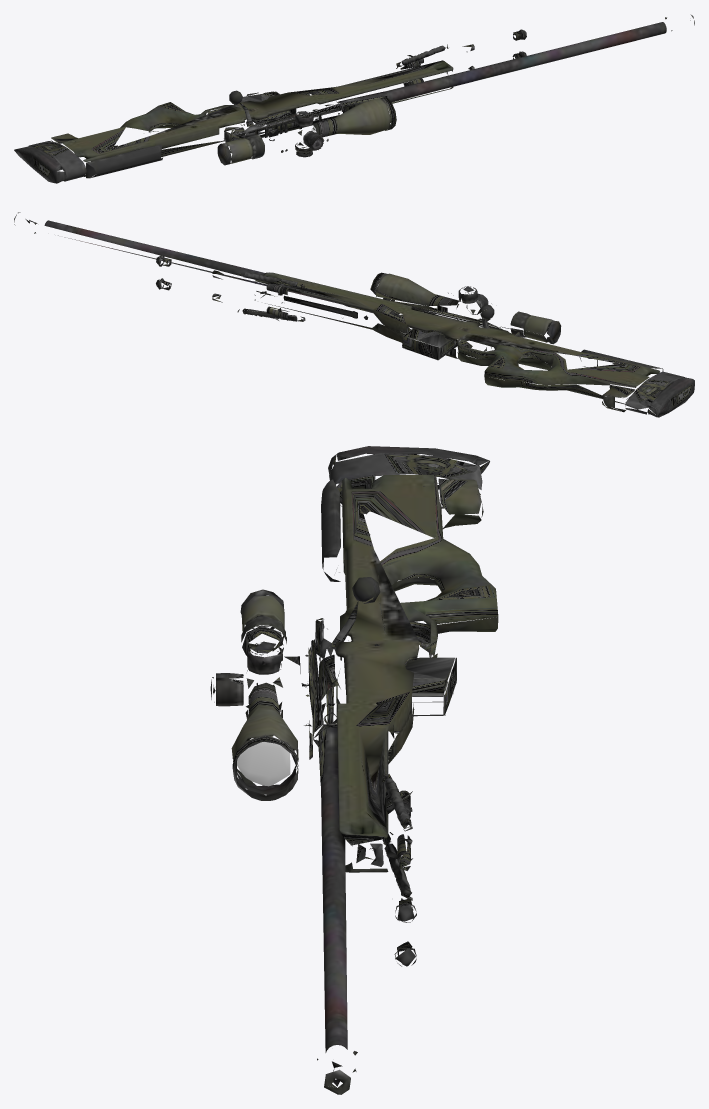
Rendered from p_awp.glb.
3 views of the same model, one above another, from view 1: azimuth 30°, elevation 25°; view 2: azimuth 150°, elevation 25°; view 3: azimuth 270°, elevation 25° (orthographic). The views are drawn at different scales.
Parts seen in each view (by area): view 1: p_awp; view 2: p_awp; view 3: p_awp.
Part boxes in pixels (<box>): p_awp: <box>14,14,694,183</box>; p_awp: <box>14,212,694,417</box>; p_awp: <box>210,446,498,1094</box>.
Size of the model in its own units: 1.84 by 0.1524 by 0.3575.
2 materials, 2 textured.
